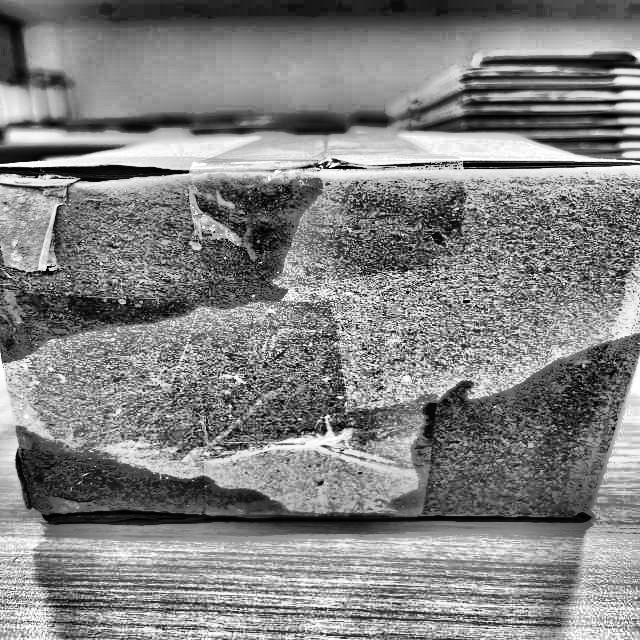box: (0, 128, 639, 526)
wet: (0, 158, 320, 347), (421, 326, 640, 521), (7, 423, 285, 517)
